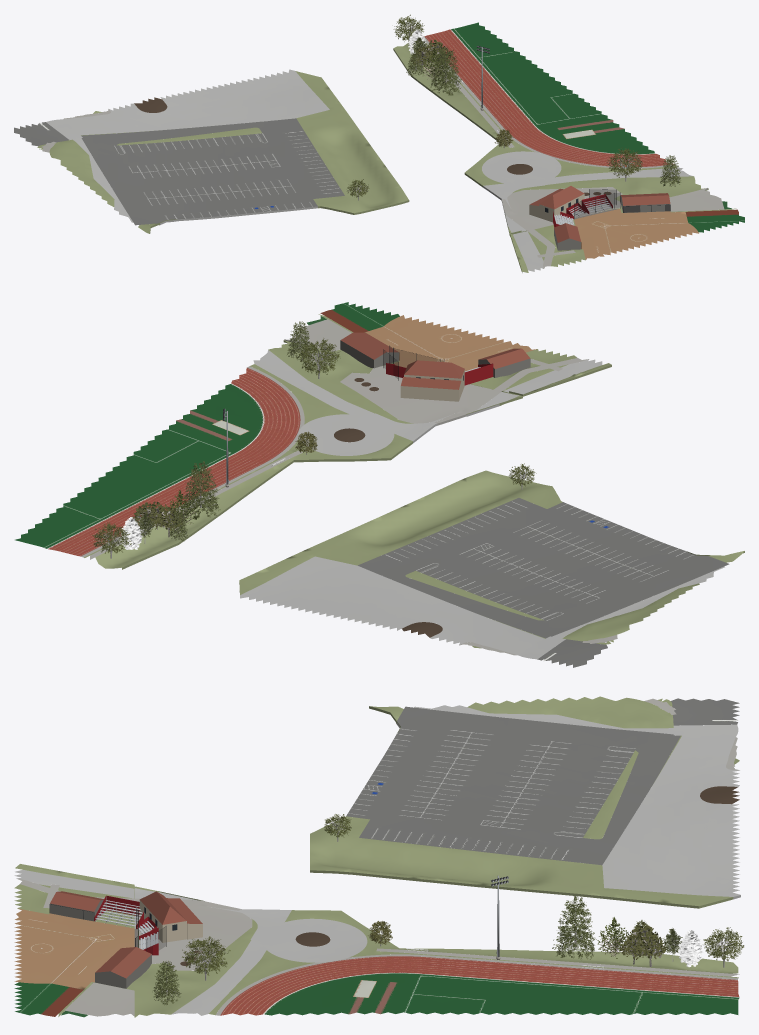
3 renders of one model, top to bottom at view 1: azimuth 30°, elevation 25°; view 2: azimuth 150°, elevation 25°; view 3: azimuth 270°, elevation 25°, orthographic. The views are drawn at different scales.
Parts seen in each view (by area): view 1: SW_ground_northeast_asphalt_-1_5_UNVERIFIED, SW_ground_village_asphalt_-1_5_UNVERIFIED, SW_ground_stadium_turf_-1_5, SW_ground_stadium_asphalt_-1_5_UNVERIFIED, SW_ground_northeast_concrete_-1_5_UNVERIFIED, SW_ground_northeast_gravel_-1_5_UNVERIFIED, SW_NE_field_dugout_1B_UNVERIFIED, SW_St_trees_Tree_254_UNVERIFIEDspecies, SW_St_trees_Tree_351_UNVERIFIEDspecies, SW_ground_northeast_turf_-1_5_UNVERIFIED, SW_ST_softball_backstop_UNVERIFIED, SW_ground_stadium_mulch_-1_5_UNVERIFIED (+4 smaller); view 2: SW_ground_northeast_asphalt_-1_5_UNVERIFIED, SW_ground_village_asphalt_-1_5_UNVERIFIED, SW_ground_stadium_turf_-1_5, SW_ground_northeast_concrete_-1_5_UNVERIFIED, SW_ground_stadium_asphalt_-1_5_UNVERIFIED, SW_ground_northeast_gravel_-1_5_UNVERIFIED, SW_NE_field_dugout_1B_UNVERIFIED, SW_St_trees_Tree_254_UNVERIFIEDspecies, SW_St_trees_Tree_351_UNVERIFIEDspecies, SW_ground_northeast_turf_-1_5_UNVERIFIED, SW_ST_softball_clubhouse_N_UNVERIFIED, SW_St_trees_Tree_384_UNVERIFIEDspecies (+3 smaller); view 3: SW_ground_northeast_asphalt_-1_5_UNVERIFIED, SW_ground_village_asphalt_-1_5_UNVERIFIED, SW_ground_stadium_turf_-1_5, SW_ground_stadium_asphalt_-1_5_UNVERIFIED, SW_ground_northeast_concrete_-1_5_UNVERIFIED, SW_ground_northeast_gravel_-1_5_UNVERIFIED, SW_NE_field_dugout_1B_UNVERIFIED, SW_St_trees_Tree_351_UNVERIFIEDspecies, SW_St_trees_Tree_254_UNVERIFIEDspecies, SW_ground_northeast_turf_-1_5_UNVERIFIED, SW_St_trees_Tree_384_UNVERIFIEDspecies, SW_ground_stadium_mulch_-1_5_UNVERIFIED (+5 smaller).
Part boxes in pixels (box(x1,y1,x2,y2)): SW_ground_northeast_asphalt_-1_5_UNVERIFIED: box(37, 41, 736, 272); SW_ground_village_asphalt_-1_5_UNVERIFIED: box(14, 118, 344, 225); SW_ground_stadium_turf_-1_5: box(451, 22, 654, 154); SW_ground_stadium_asphalt_-1_5_UNVERIFIED: box(424, 29, 673, 166); SW_ground_northeast_concrete_-1_5_UNVERIFIED: box(41, 36, 724, 268); SW_ground_northeast_gravel_-1_5_UNVERIFIED: box(574, 208, 698, 259); SW_NE_field_dugout_1B_UNVERIFIED: box(529, 186, 670, 250); SW_St_trees_Tree_254_UNVERIFIEDspecies: box(406, 47, 680, 186); SW_St_trees_Tree_351_UNVERIFIEDspecies: box(347, 14, 642, 200); SW_ground_northeast_turf_-1_5_UNVERIFIED: box(685, 201, 744, 232); SW_ST_softball_backstop_UNVERIFIED: box(574, 189, 620, 218); SW_ground_stadium_mulch_-1_5_UNVERIFIED: box(134, 97, 611, 195); SW_ground_northeast_asphalt_-1_5_UNVERIFIED: box(84, 314, 744, 659); SW_ground_village_asphalt_-1_5_UNVERIFIED: box(358, 498, 729, 667); SW_ground_stadium_turf_-1_5: box(15, 384, 262, 548); SW_ground_northeast_concrete_-1_5_UNVERIFIED: box(81, 319, 617, 655); SW_ground_stadium_asphalt_-1_5_UNVERIFIED: box(47, 368, 300, 556); SW_ground_northeast_gravel_-1_5_UNVERIFIED: box(365, 315, 536, 371); SW_NE_field_dugout_1B_UNVERIFIED: box(340, 332, 530, 389); SW_St_trees_Tree_254_UNVERIFIEDspecies: box(168, 321, 310, 541); SW_St_trees_Tree_351_UNVERIFIEDspecies: box(92, 338, 536, 558); SW_ground_northeast_turf_-1_5_UNVERIFIED: box(307, 302, 399, 332); SW_ST_softball_clubhouse_N_UNVERIFIED: box(400, 369, 464, 401); SW_St_trees_Tree_384_UNVERIFIEDspecies: box(132, 501, 183, 537); SW_ground_northeast_asphalt_-1_5_UNVERIFIED: box(14, 696, 740, 1017); SW_ground_village_asphalt_-1_5_UNVERIFIED: box(346, 698, 739, 865); SW_ground_stadium_turf_-1_5: box(264, 973, 739, 1015); SW_ground_stadium_asphalt_-1_5_UNVERIFIED: box(220, 956, 739, 1015); SW_ground_northeast_concrete_-1_5_UNVERIFIED: box(17, 698, 739, 1016); SW_ground_northeast_gravel_-1_5_UNVERIFIED: box(14, 908, 137, 989); SW_NE_field_dugout_1B_UNVERIFIED: box(50, 891, 202, 988); SW_St_trees_Tree_351_UNVERIFIEDspecies: box(182, 814, 744, 980); SW_St_trees_Tree_254_UNVERIFIEDspecies: box(153, 896, 647, 1005); SW_ground_northeast_turf_-1_5_UNVERIFIED: box(14, 982, 87, 1017); SW_St_trees_Tree_384_UNVERIFIEDspecies: box(619, 922, 667, 966); SW_ground_stadium_mulch_-1_5_UNVERIFIED: box(180, 786, 739, 965).
Size of the model in its own units: 162 by 23.2 by 163.
44 materials, 15 textured.
